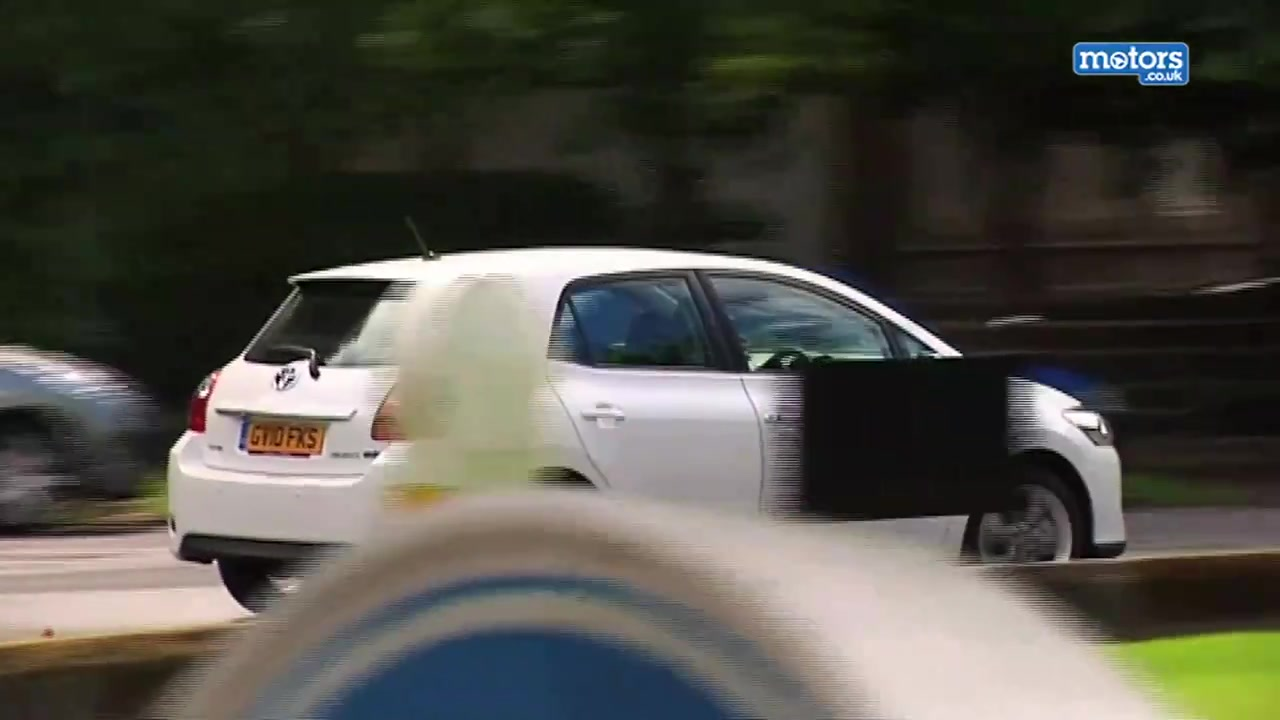car: (173, 244, 1131, 630), (1, 337, 168, 535)
